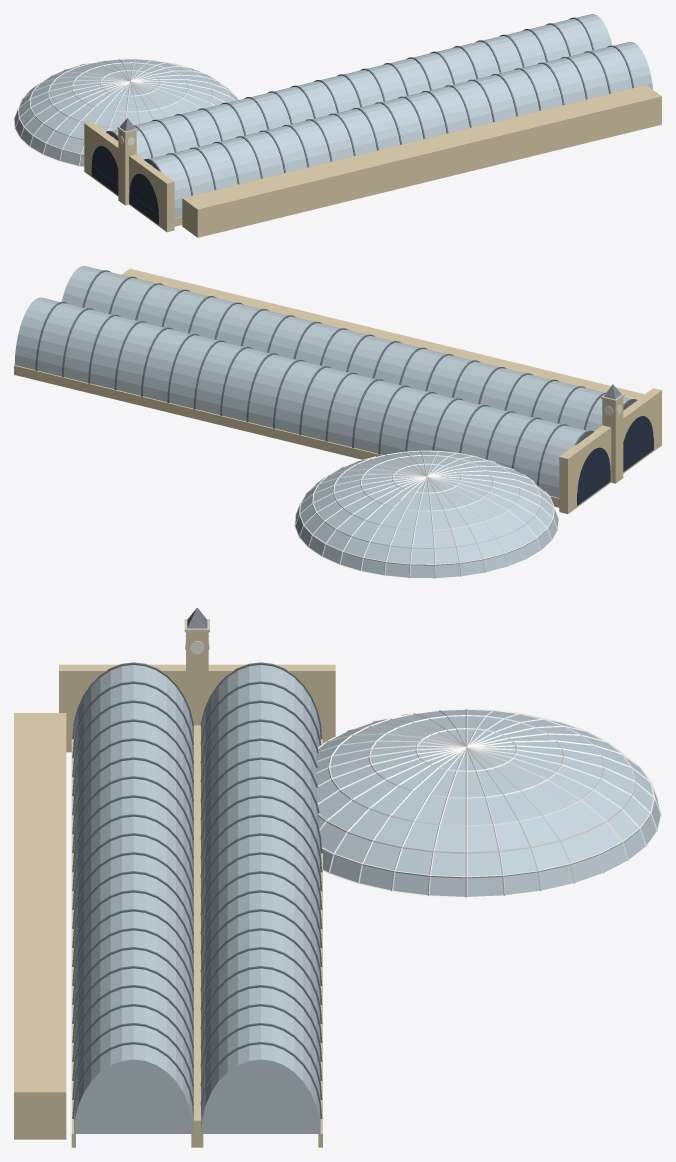
The model's file is terminal_kings-cross.glb.
The picture shows the model from 3 angles, top to bottom: view 1: azimuth 30°, elevation 25°; view 2: azimuth 150°, elevation 25°; view 3: azimuth 270°, elevation 25°; orthographic projection. The views are drawn at different scales.
Parts seen in each view (by area): view 1: kings-cross; view 2: kings-cross; view 3: kings-cross.
Part boxes in pixels (box(x1,y1,x2,y2)): kings-cross: box(14, 14, 661, 237); kings-cross: box(14, 266, 661, 578); kings-cross: box(14, 607, 661, 1147).
Size of the model in its own units: 262 by 41.48 by 173.
